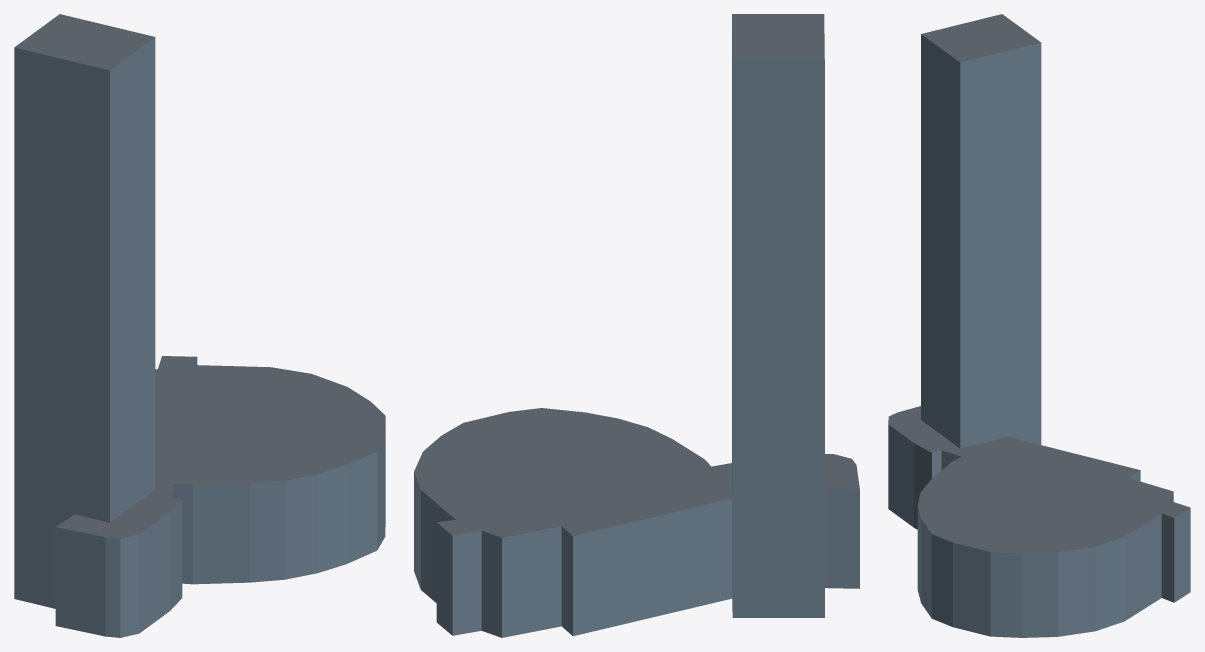
3 views of the same model, side by side, from view 1: azimuth 30°, elevation 25°; view 2: azimuth 150°, elevation 25°; view 3: azimuth 270°, elevation 25° (orthographic). The views are drawn at different scales.
Visible parts, largest first — view 1: HP-w372180394; view 2: HP-w372180394; view 3: HP-w372180394.
Boxes of the visible parts, left/top/right/bottom form: HP-w372180394: left=14, top=14, right=385, bottom=637; HP-w372180394: left=414, top=14, right=859, bottom=637; HP-w372180394: left=888, top=14, right=1190, bottom=637.
Bounding box in the file's own units: 118 × 169 × 98.41.
